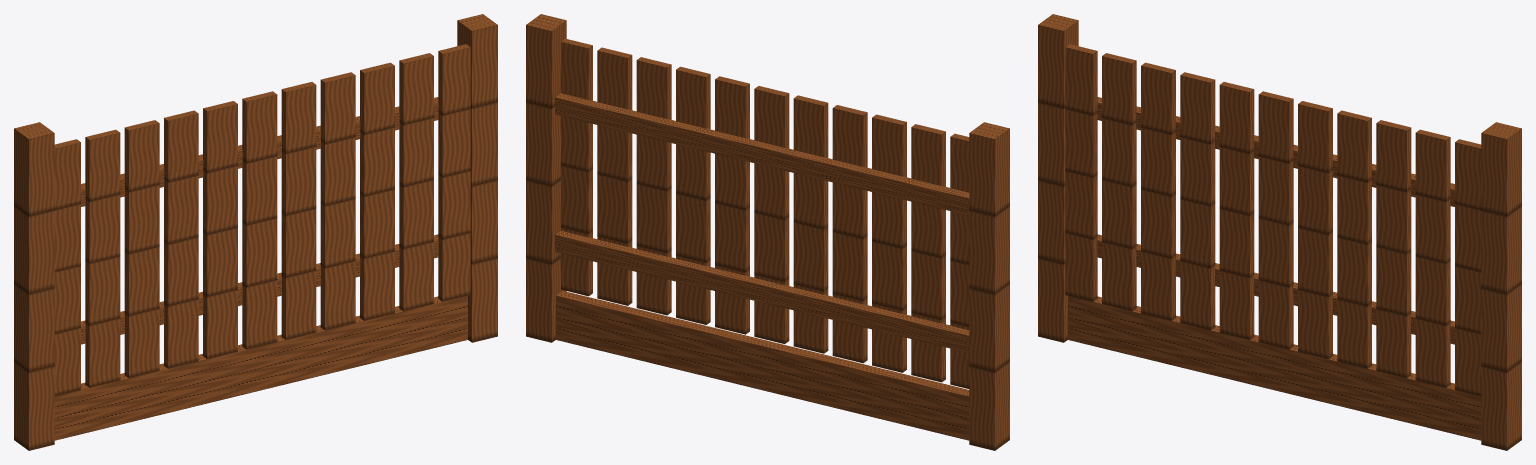
Rendered from timber_fence.glb.
3 renders of one model, left to right at view 1: azimuth 30°, elevation 25°; view 2: azimuth 150°, elevation 25°; view 3: azimuth 330°, elevation 25°, orthographic.
Visible parts, largest first — view 1: timber-fence-panel-timber; view 2: timber-fence-panel-timber; view 3: timber-fence-panel-timber.
Boxes of the visible parts, x1=… form: timber-fence-panel-timber: x1=14, y1=14, x2=497, y2=450; timber-fence-panel-timber: x1=526, y1=14, x2=1009, y2=450; timber-fence-panel-timber: x1=1038, y1=14, x2=1521, y2=450.
Bounding box in the file's own units: 2 × 1.27 × 0.1101.
Materials: 1 (1 with a texture image).
